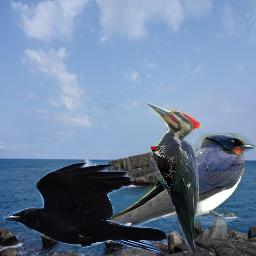Crow: (3, 162, 168, 254)
Swallow: (85, 133, 255, 251)
Woodpecker: (144, 102, 202, 255), (150, 144, 177, 202)
